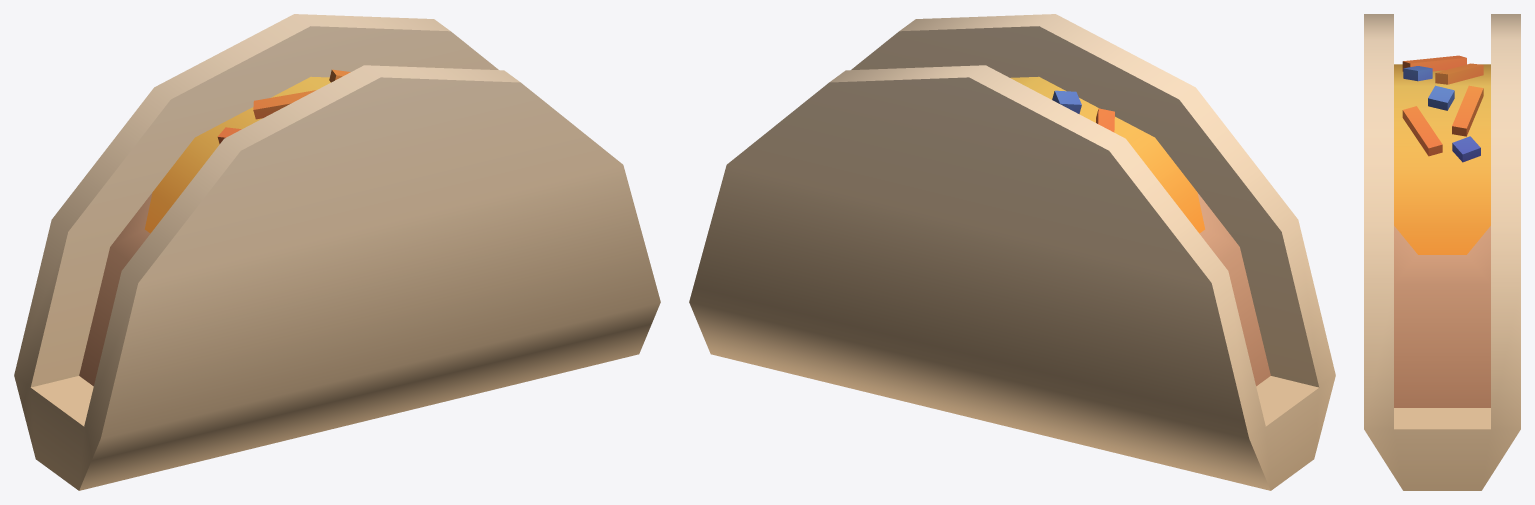
The model's file is taco.glb.
3 renders of one model, left to right at view 1: azimuth 30°, elevation 25°; view 2: azimuth 150°, elevation 25°; view 3: azimuth 270°, elevation 25°, orthographic. The views are drawn at different scales.
Parts seen in each view (by area): view 1: taco; view 2: taco; view 3: taco.
Part boxes in pixels (box(x1,y1,x2,y2)): taco: box(14, 14, 660, 490); taco: box(689, 14, 1335, 490); taco: box(1364, 14, 1520, 490).
Size of the model in its own units: 0.4256 by 0.2622 by 0.114.
Materials: 1 (1 with a texture image).
